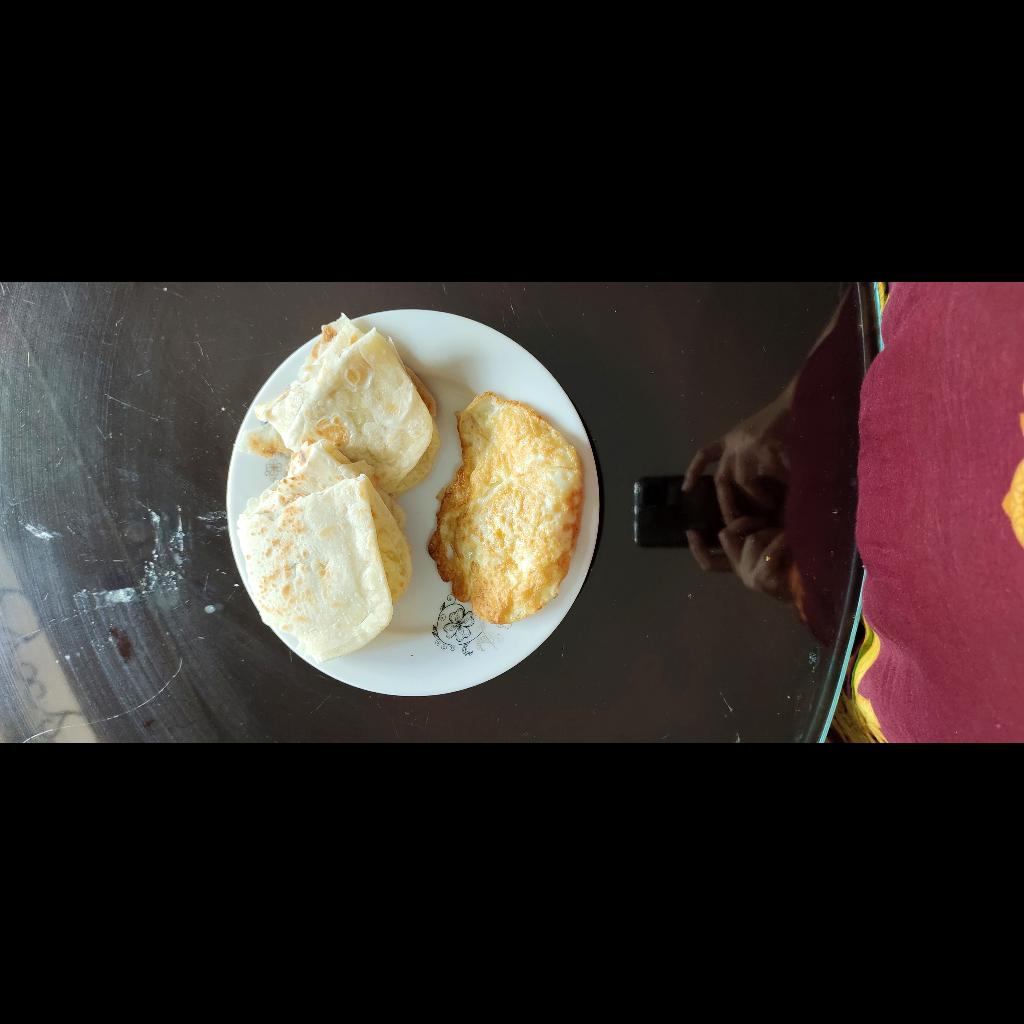egg-poached: (117, 706, 349, 864)
ruti: (78, 516, 425, 720)
